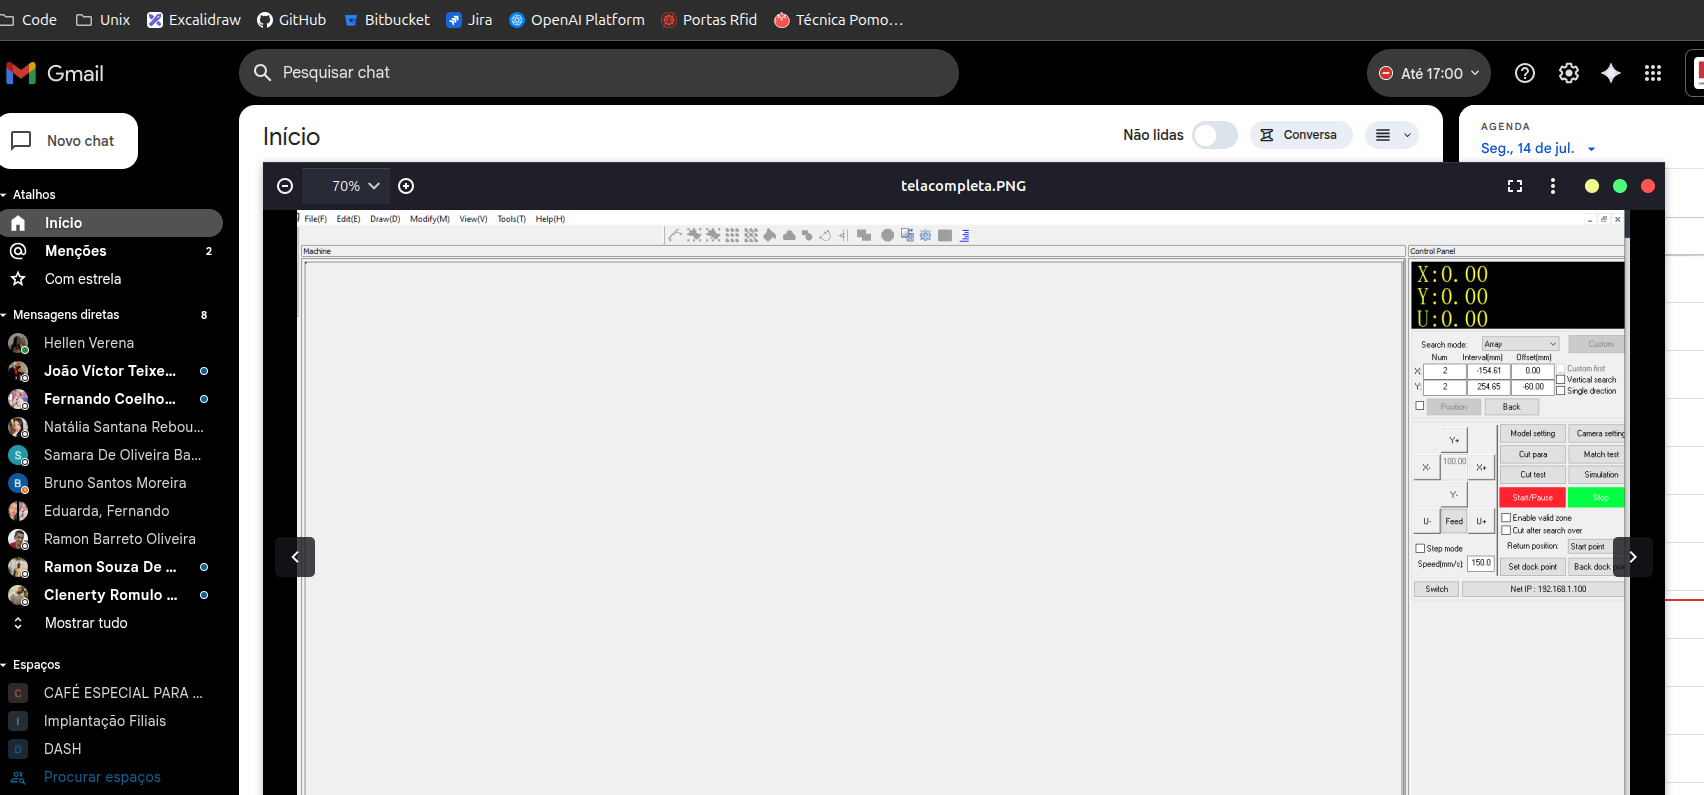start: (1499, 486, 1566, 508)
timer: (1511, 353, 1555, 397)
